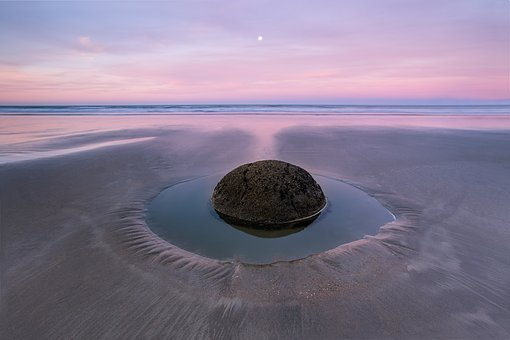sea: (3, 105, 510, 326)
sky: (5, 1, 494, 106)
